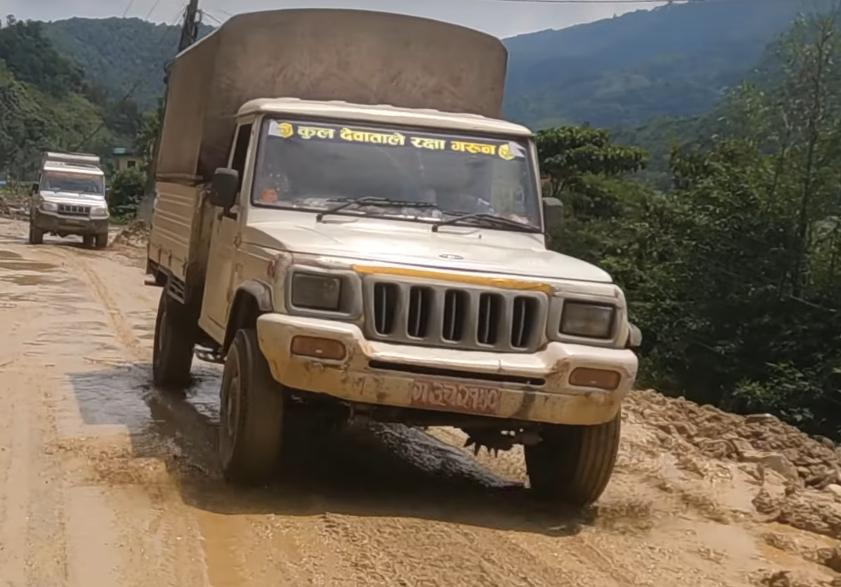SUV: (19, 135, 120, 259)
transport_vehicle: (128, 3, 651, 513)
